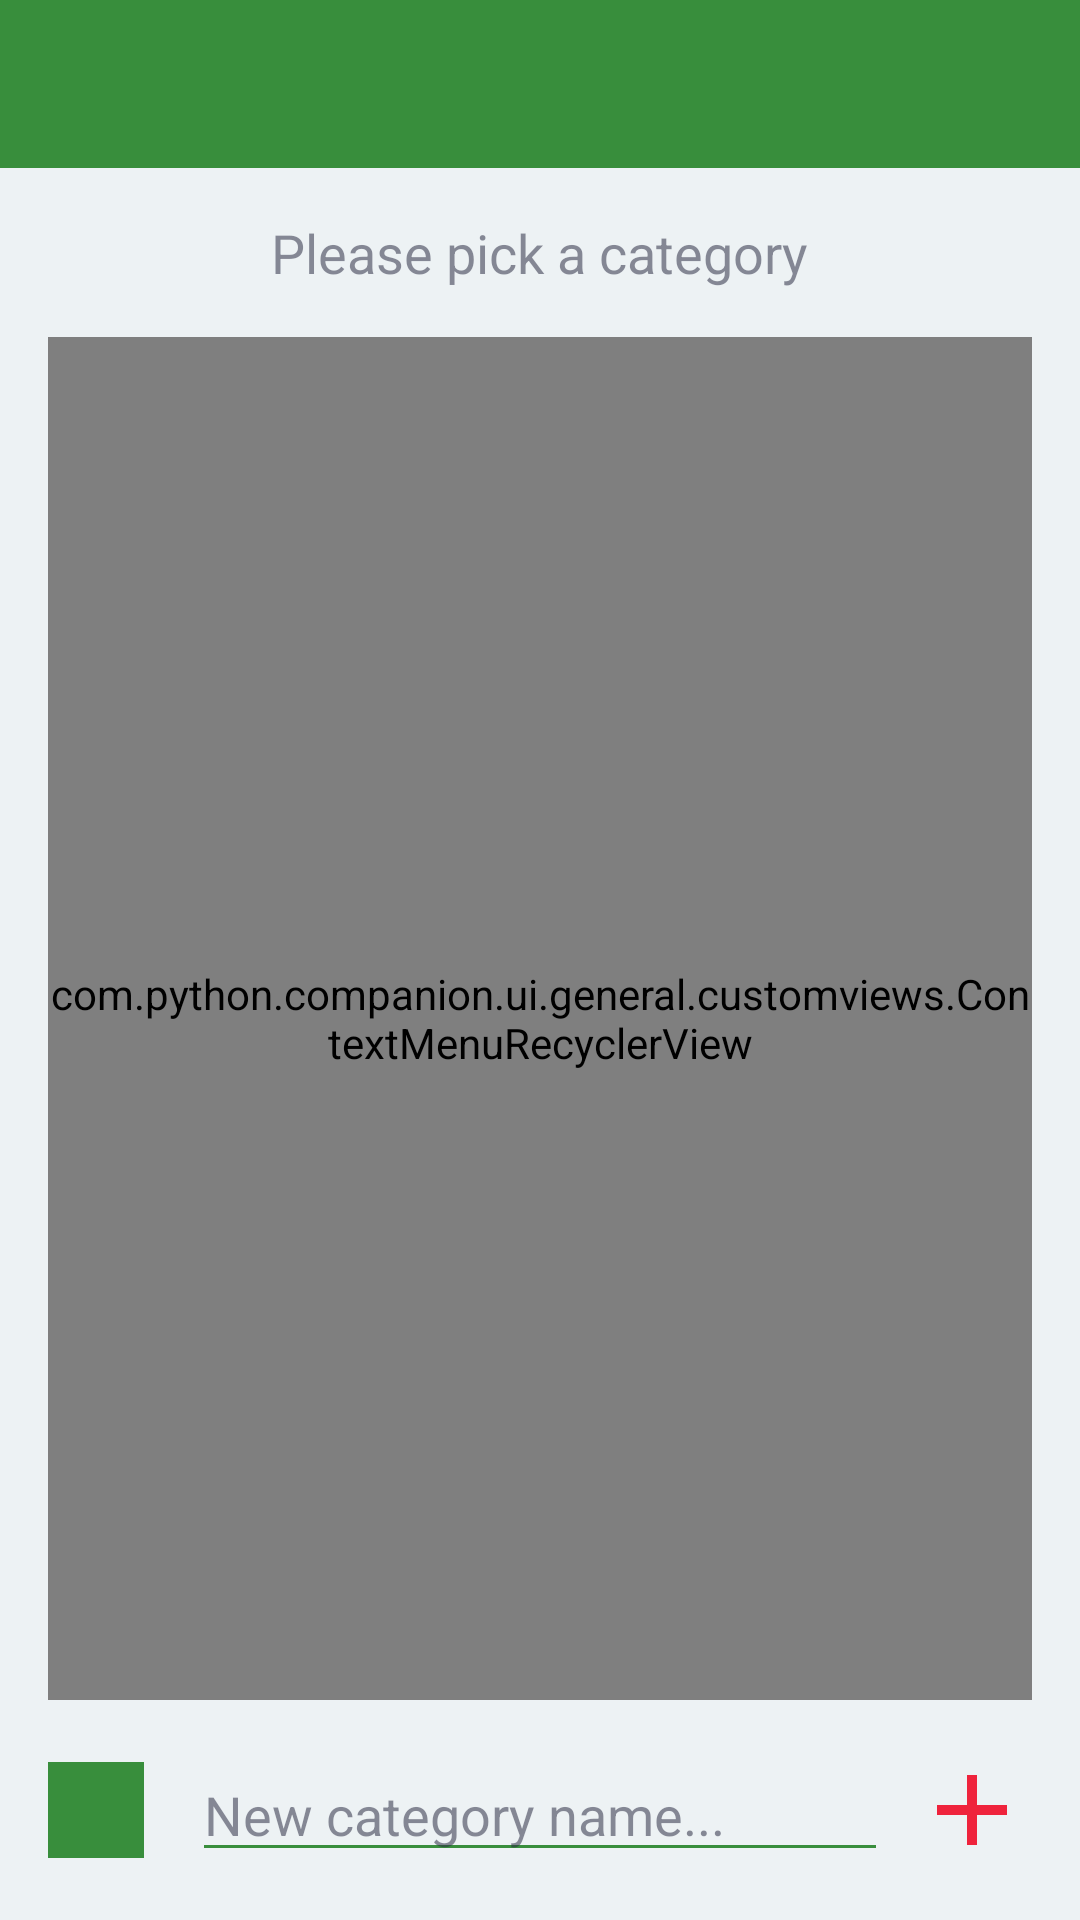

Icon click points for this 1080x1920 phone screenshot, format (x=x, y=y):
add: (x=972, y=1810)
